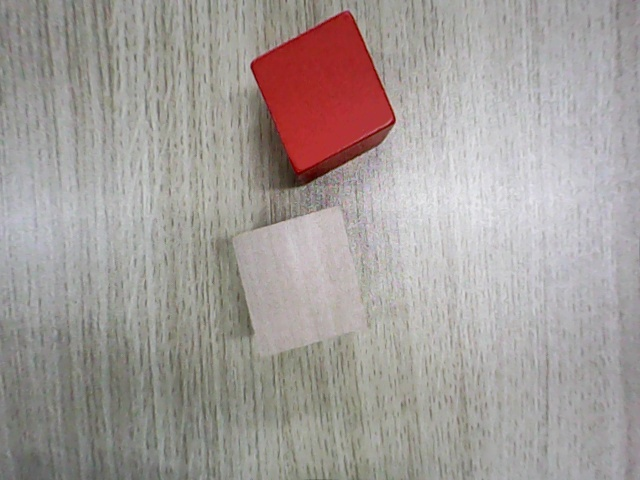upside of big cube: (245, 8, 397, 174), (229, 207, 368, 357)
